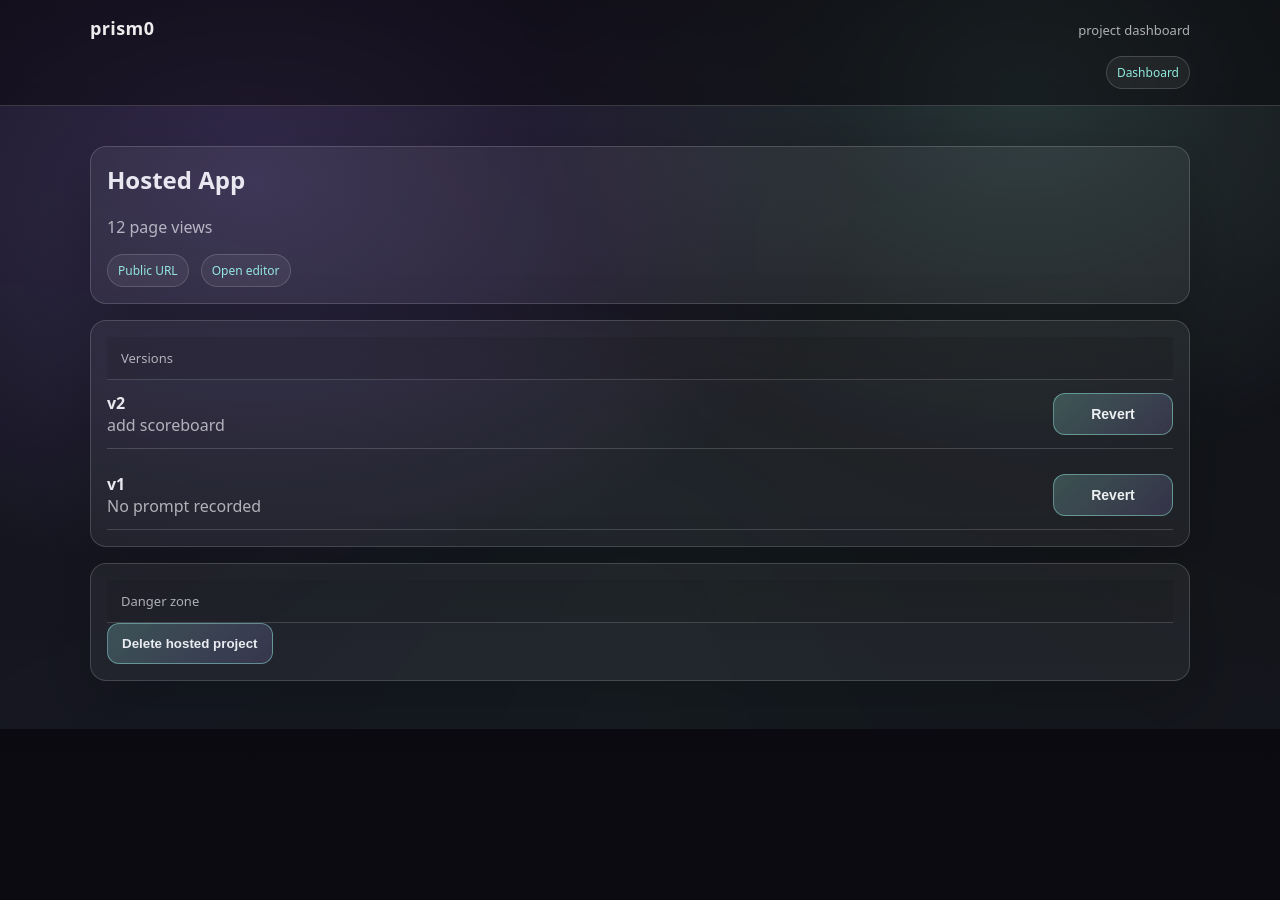
ProjectManagePage › shows delete errors from non-error rejections
Expected: the heading "Hosted App" is shown, [107,163,245,196]
Click the button "Delete hosted project" at (190, 643), box [107,623,272,664]
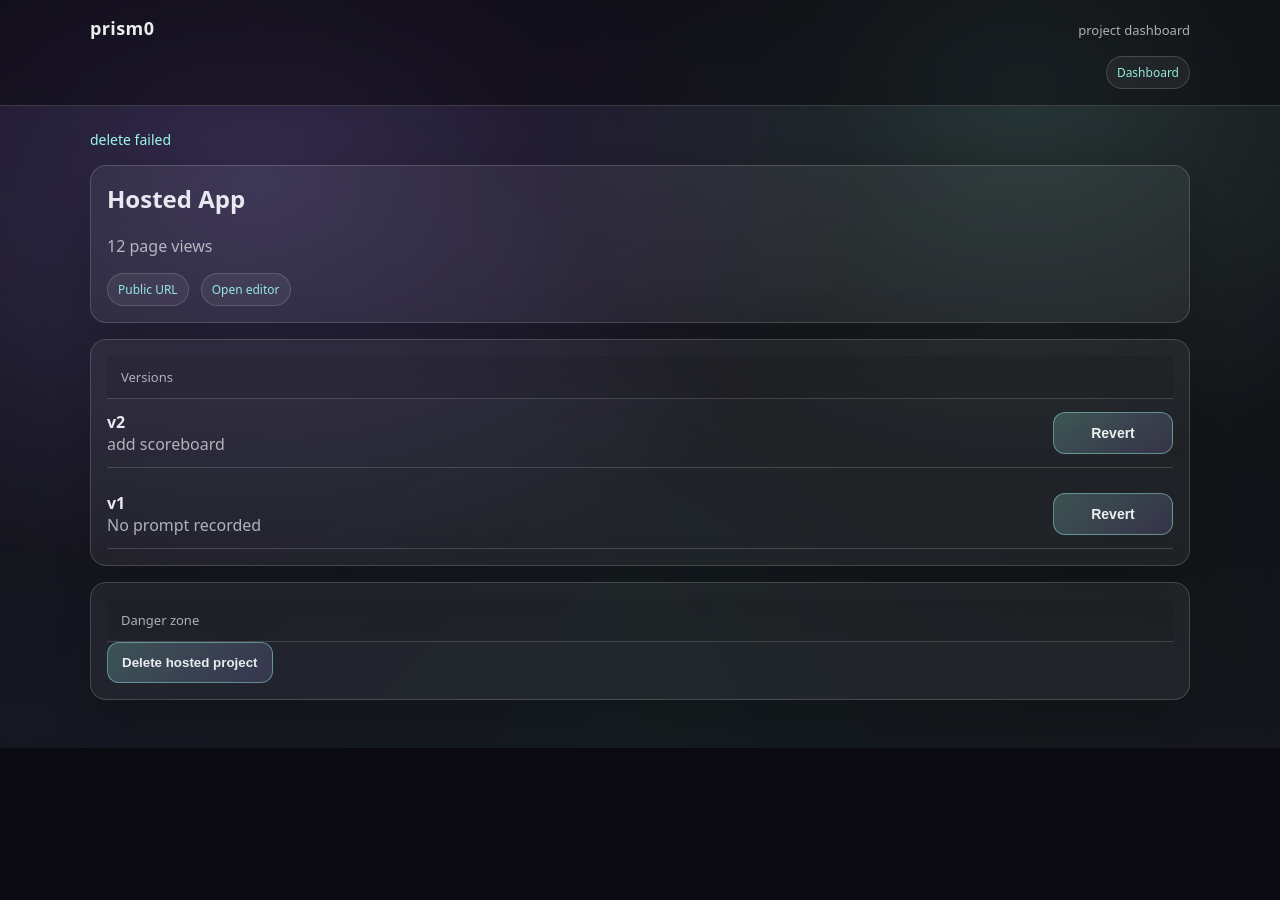
Expected: the text "delete failed" is shown, [90,130,171,149]
